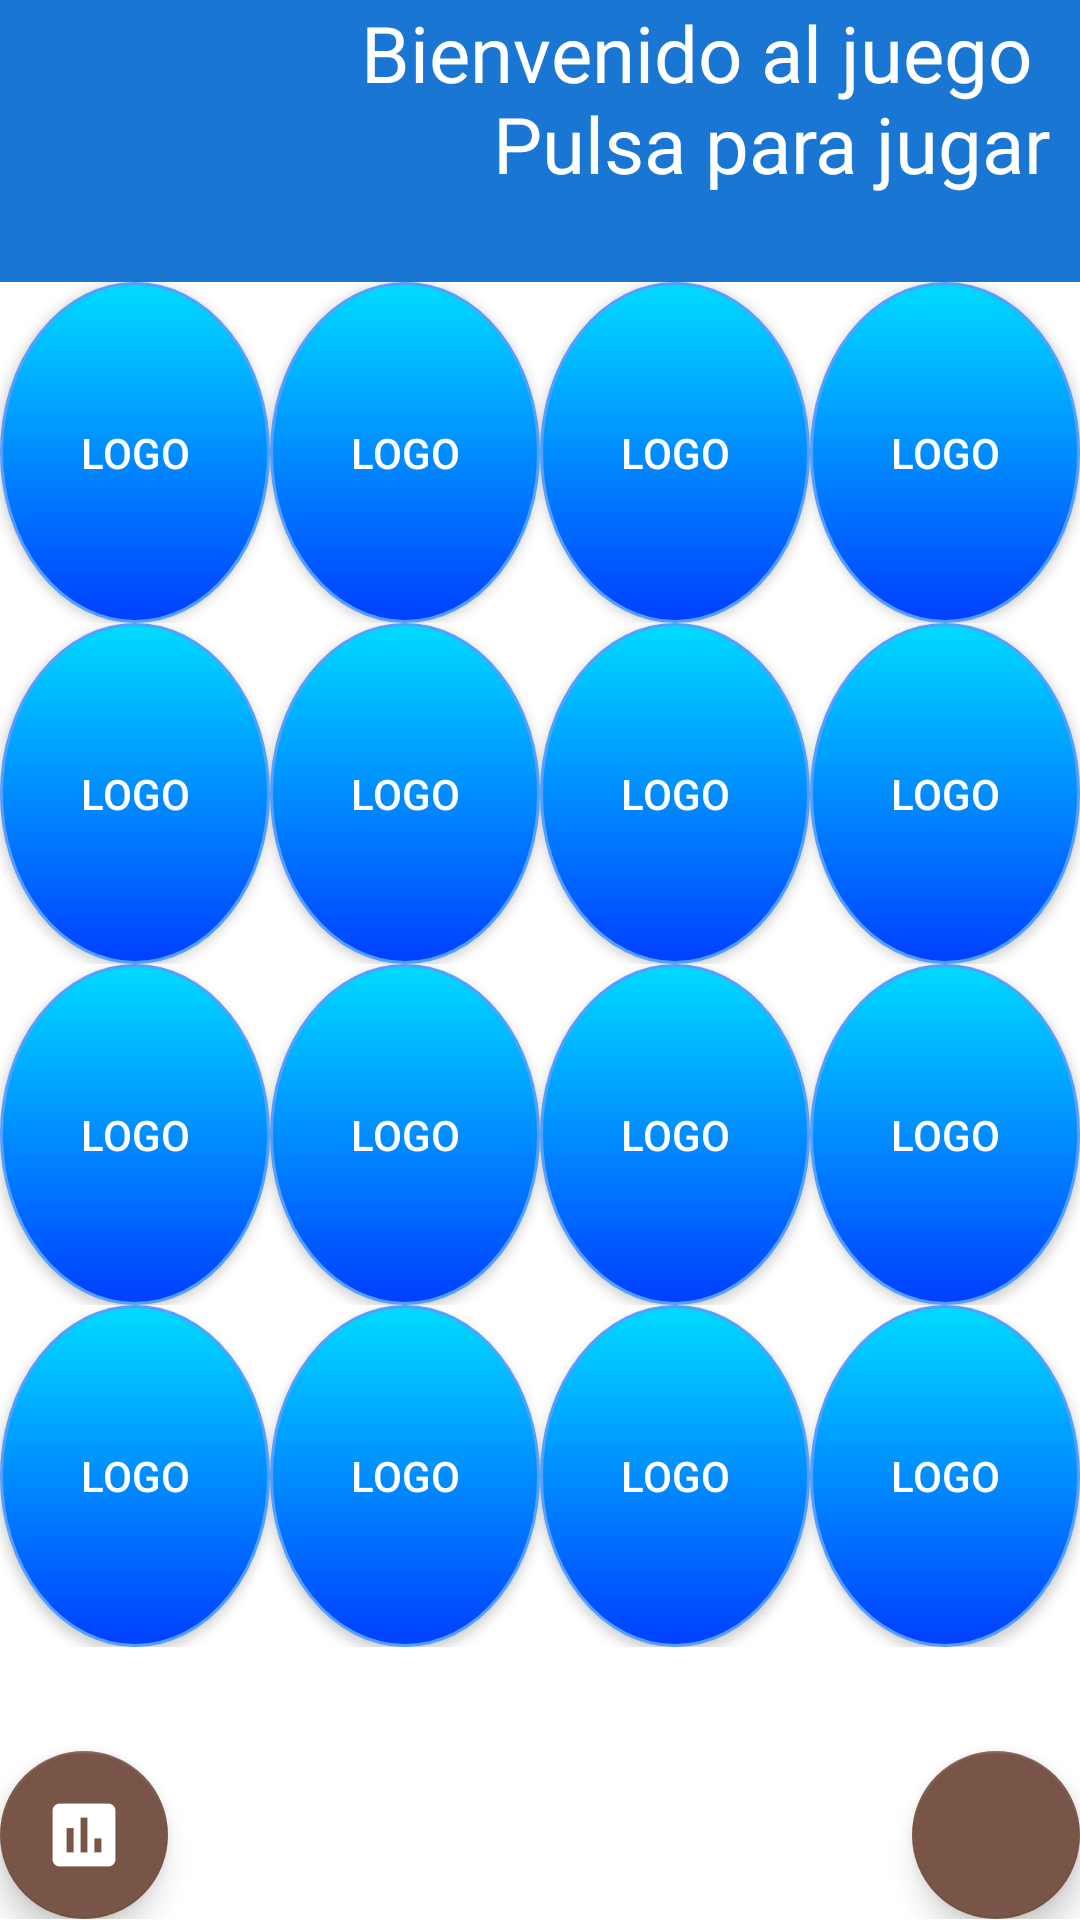

Where to tap for icons on this 1080px x 1920px app screen, as (x,y):
historial: (84,1835)
